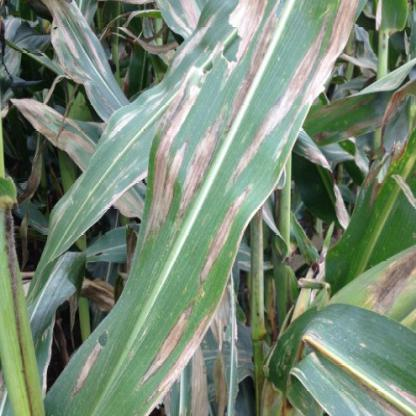Corn leaf blight: (42, 1, 370, 415), (25, 6, 208, 298), (269, 308, 415, 412)
